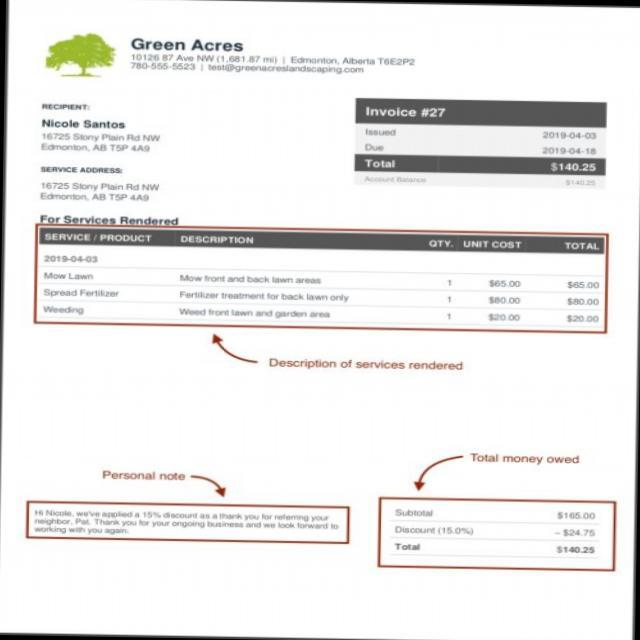customer_address: (39, 132, 162, 156)
customer_name: (41, 118, 130, 131)
due_date: (542, 144, 600, 158)
invoice_date: (540, 128, 602, 142)
invoice_number: (420, 104, 452, 120)
invoice_subtotal: (554, 510, 598, 521)
invoice_total: (555, 544, 601, 558)
item_description: (174, 272, 352, 322)
item_quantity: (437, 274, 456, 322)
item_total_price: (562, 278, 602, 326)
item_unit_price: (485, 278, 526, 326)
supplier_address: (129, 52, 419, 66)
supplier_name: (126, 36, 248, 52)
